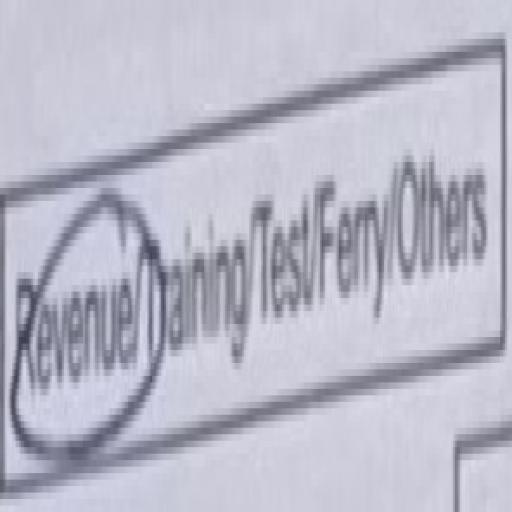check: (0, 123, 144, 512)
